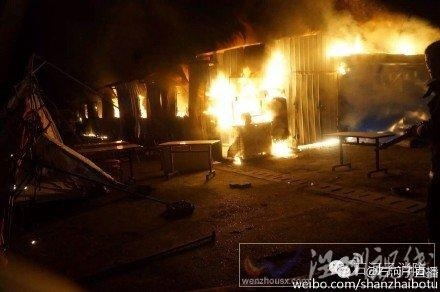fire: (202, 48, 289, 130), (319, 7, 432, 59), (173, 70, 189, 117), (269, 136, 293, 155), (137, 88, 147, 116)
